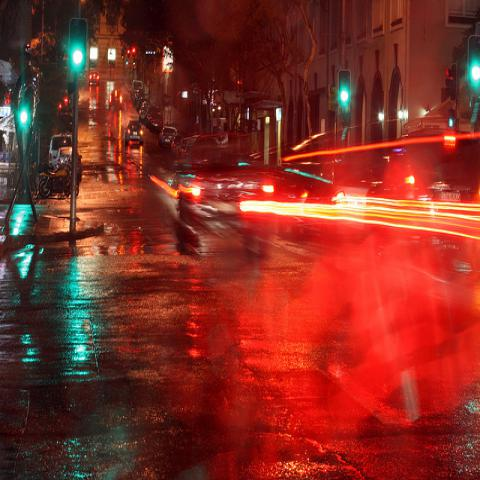car: (179, 120, 309, 228), (48, 135, 82, 181), (55, 88, 75, 135), (168, 131, 194, 164), (170, 171, 200, 198), (125, 118, 144, 146), (145, 105, 164, 133), (161, 126, 178, 146), (139, 102, 152, 122), (130, 80, 144, 97), (109, 89, 123, 106), (136, 97, 150, 113), (88, 70, 100, 84)
motorcycle: (39, 169, 79, 198)
